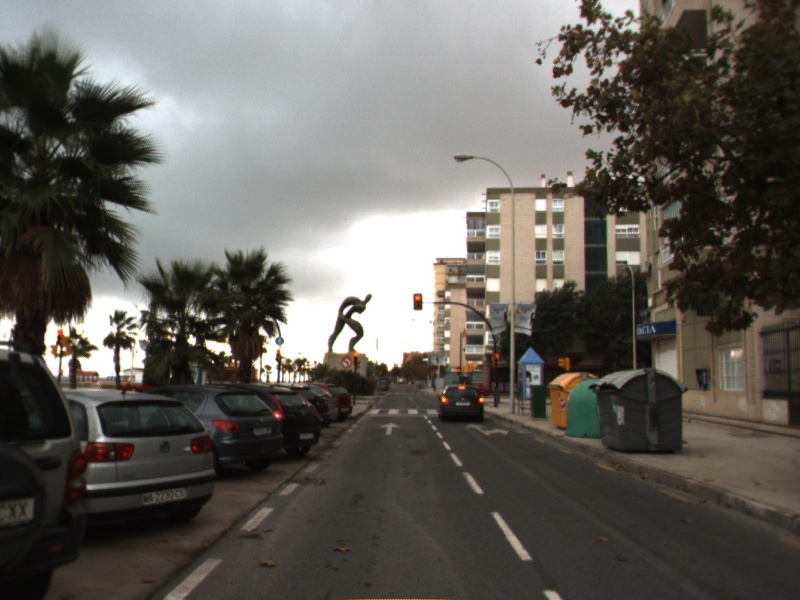STRAIGHT: (378, 421, 402, 436)
STRAIGHT_RIGHT: (464, 421, 510, 437)
